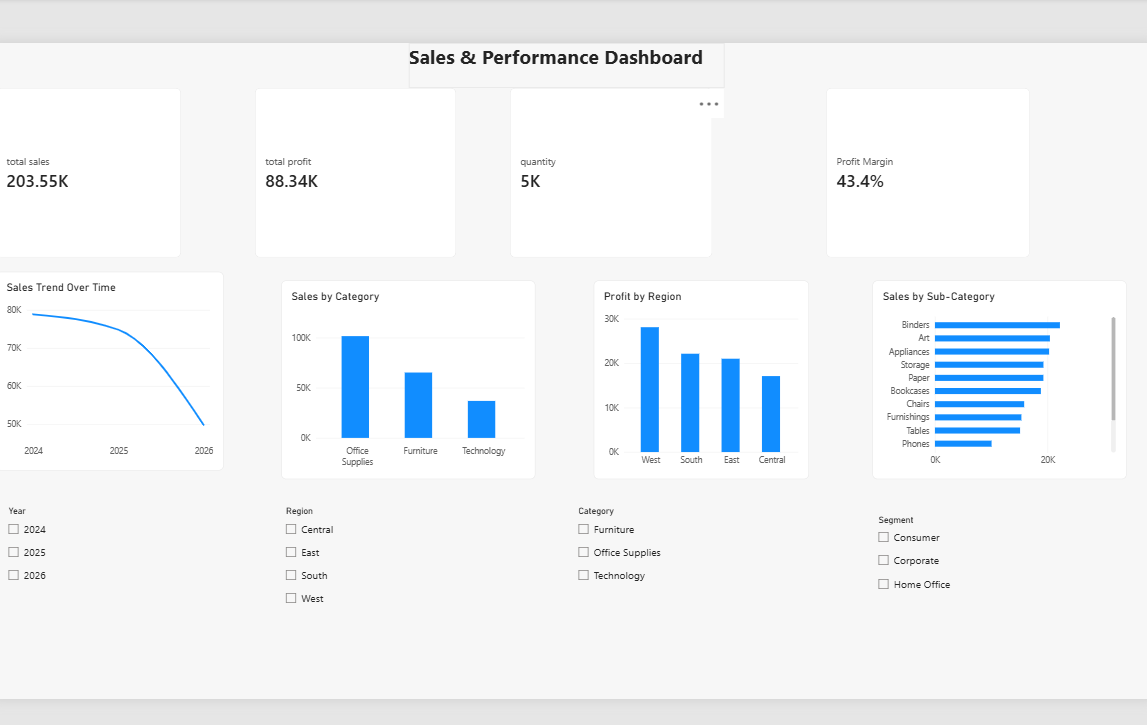

The page's visual inventory and layout, read from the dashboard file:
{"tool":"powerbi","page":{"name":"Page 1","canvas":[1920,1080],"ordinal":0},"visuals":[{"type":"cardVisual","fields":{"Data":["Sum(superstore.Sales)"]},"box":[10.3,74.1,304.6,279.9],"z":0},{"type":"cardVisual","fields":{"Data":["Sum(superstore.Profit)"]},"box":[436.4,74.1,331.4,279.9],"z":1},{"type":"cardVisual","fields":{"Data":["Sum(superstore.Quantity)"]},"box":[856.3,74.1,333.4,279.9],"z":2},{"type":"cardVisual","fields":{"Data":["superstore.Profit Margin"]},"box":[1377,74.1,335.5,279.9],"z":3},{"type":"lineChart","title":"Sales Trend Over Time","fields":{"Category":["superstore.Order Date.Variation.Date Hierarchy.Year","superstore.Order Date.Variation.Date Hierarchy.Month"],"Y":["Sum(superstore.Sales)"]},"box":[10.3,376.7,374.6,327.3],"z":4},{"type":"clusteredColumnChart","title":"Sales by Category","fields":{"Category":["superstore.Category"],"Y":["Sum(superstore.Sales)"]},"box":[479.6,391.1,418,327],"z":5},{"type":"clusteredColumnChart","title":"Profit by Region","fields":{"Category":["superstore.Region"],"Y":["Sum(superstore.Profit)"]},"box":[994.2,391.1,354,327.3],"z":6},{"type":"clusteredBarChart","title":"Sales by Sub-Category","fields":{"Category":["superstore.Sub-Category"],"Y":["Sum(superstore.Sales)"]},"box":[1453.2,391.1,418,327],"z":7},{"type":"slicer","fields":{"Values":["superstore.Order Date.Variation.Date Hierarchy.Year"]},"box":[22.6,761.6,456.9,259.3],"z":8},{"type":"slicer","fields":{"Values":["superstore.Region"]},"box":[479.6,761.6,418,259],"z":9},{"type":"slicer","fields":{"Values":["superstore.Category"]},"box":[961.2,761.6,418,259],"z":10},{"type":"slicer","fields":{"Values":["superstore.Segment"]},"box":[1455.2,776,418,259],"z":11},{"type":"textbox","box":[689.5,0,520.8,74.1],"z":12}]}

Visuals, with their boxes on the page's 1920x1080 design canvas (x1, y1, x2, y2). These are canvas units, not pixel positions in the 1147x725 screenshot, which may show the page scaled, cropped or inside an application window:
cardVisual - Sum(superstore.Sales): rect(10, 74, 315, 354)
cardVisual - Sum(superstore.Profit): rect(436, 74, 768, 354)
cardVisual - Sum(superstore.Quantity): rect(856, 74, 1190, 354)
cardVisual - superstore.Profit Margin: rect(1377, 74, 1712, 354)
"Sales Trend Over Time" lineChart: rect(10, 377, 385, 704)
"Sales by Category" clusteredColumnChart: rect(480, 391, 898, 718)
"Profit by Region" clusteredColumnChart: rect(994, 391, 1348, 718)
"Sales by Sub-Category" clusteredBarChart: rect(1453, 391, 1871, 718)
slicer - superstore.Order Date.Variation.Date Hierarchy.Year: rect(23, 762, 480, 1021)
slicer - superstore.Region: rect(480, 762, 898, 1021)
slicer - superstore.Category: rect(961, 762, 1379, 1021)
slicer - superstore.Segment: rect(1455, 776, 1873, 1035)
textbox: rect(690, 0, 1210, 74)
